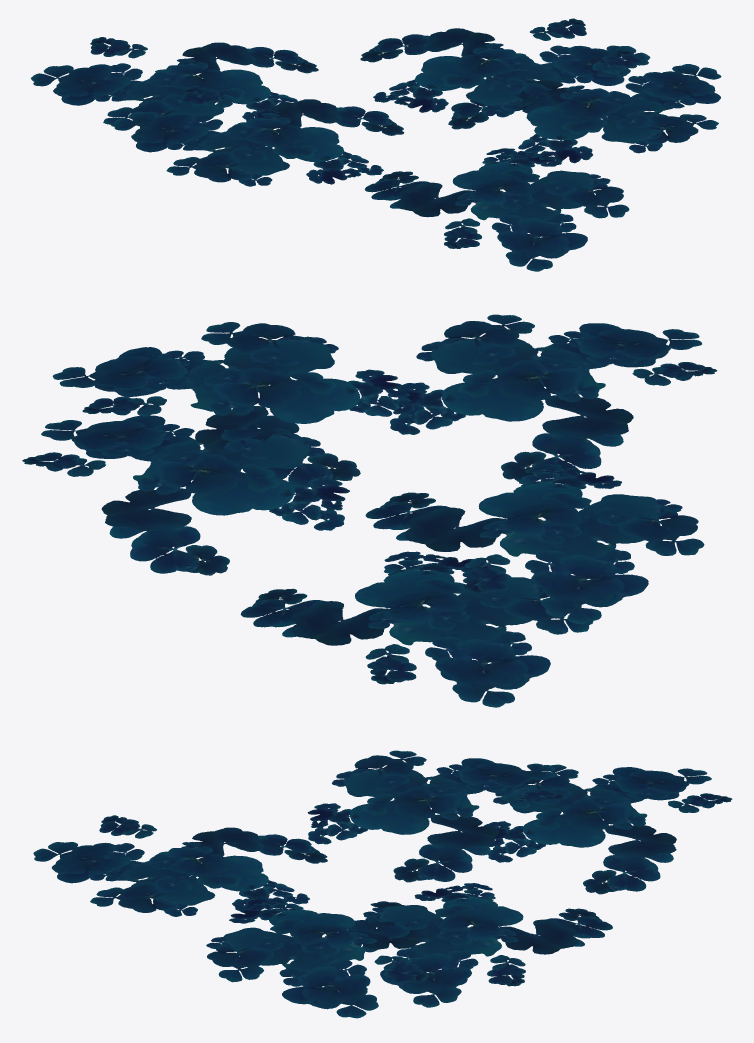
The picture shows the model from 3 angles, top to bottom: view 1: azimuth 30°, elevation 25°; view 2: azimuth 150°, elevation 25°; view 3: azimuth 270°, elevation 25°; orthographic projection. The views are drawn at different scales.
Visible parts, largest first — view 1: SM_FH_Sorrel_D_LOD0; view 2: SM_FH_Sorrel_D_LOD0; view 3: SM_FH_Sorrel_D_LOD0.
Part boxes in pixels (bbox=[...]): SM_FH_Sorrel_D_LOD0: bbox=[31, 18, 721, 271]; SM_FH_Sorrel_D_LOD0: bbox=[22, 314, 717, 707]; SM_FH_Sorrel_D_LOD0: bbox=[33, 750, 732, 1018].
Bounding box in the file's own units: 0.782 × 0.0452 × 0.8798.
Materials: 1 (1 with a texture image).
